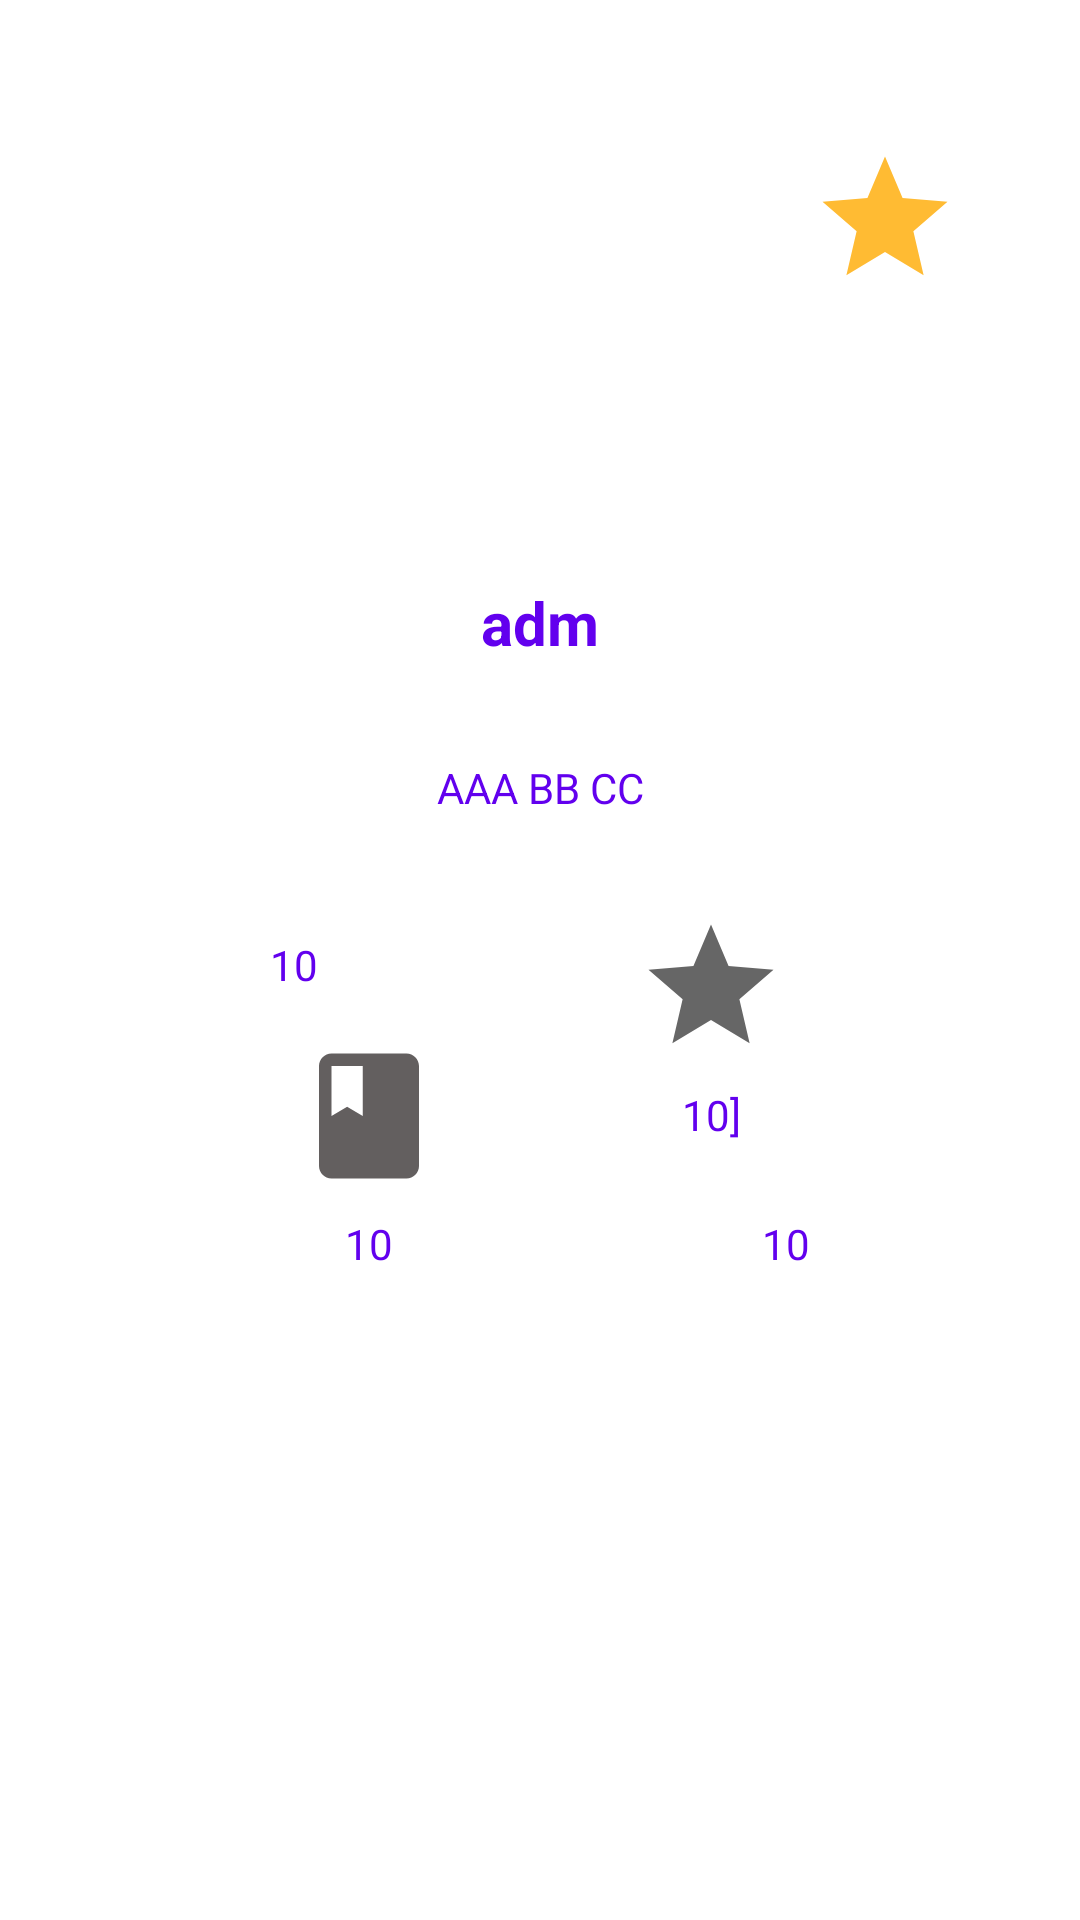

Icon bounding boxes for this 1080 × 1920 phone screenshot, format (left=x1, top=y1, right=x2, bottom=y2):
book: (left=319, top=1053, right=419, bottom=1179)
star: (left=823, top=157, right=947, bottom=275), (left=649, top=925, right=773, bottom=1043)
